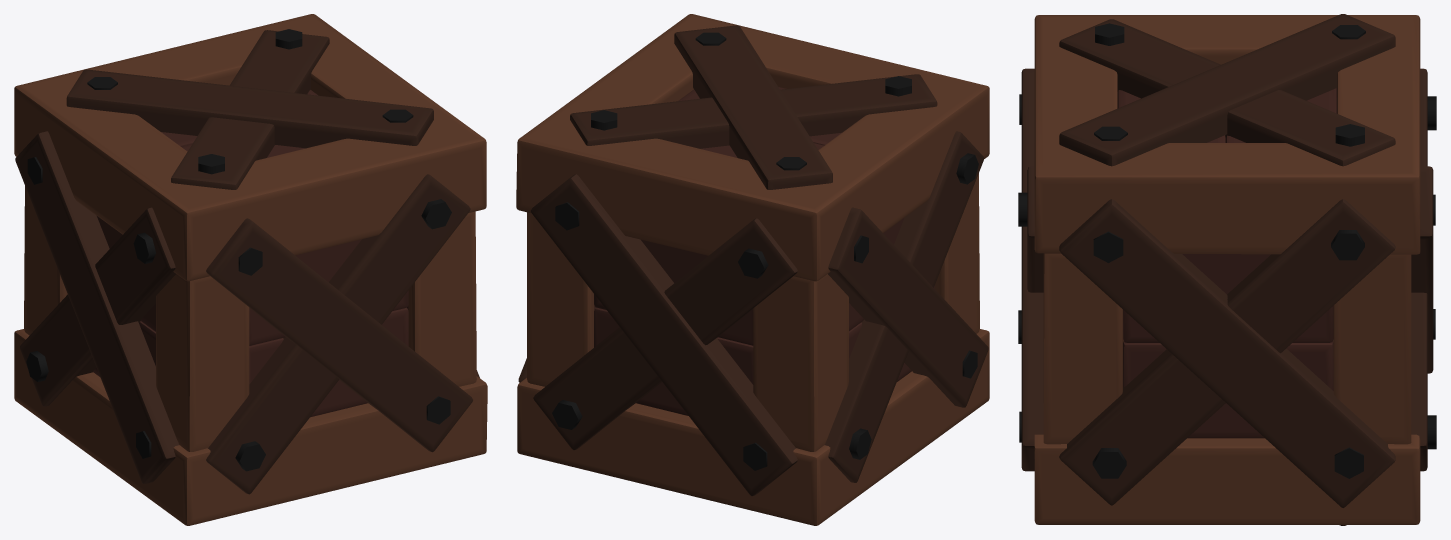
3 views of the same model, side by side, from view 1: azimuth 30°, elevation 25°; view 2: azimuth 150°, elevation 25°; view 3: azimuth 270°, elevation 25° (orthographic). The views are drawn at different scales.
Parts seen in each view (by area): view 1: Level0, Plane008, Plane005, Plane011, Plane012, Plane007, Plane002; view 2: Level0, Plane010, Plane003, Plane011, Plane007, Plane012, Plane002; view 3: Level0, Plane009, Plane006, Plane012, Plane002, Plane008, Plane003, Plane010, Plane005.
Part boxes in pixels (x1,y1,x2,y2): Level0: [14, 14, 487, 525]; Plane008: [206, 218, 472, 452]; Plane005: [206, 174, 470, 494]; Plane011: [15, 131, 179, 483]; Plane012: [66, 69, 433, 148]; Plane007: [20, 207, 175, 406]; Plane002: [171, 29, 329, 189]; Level0: [516, 14, 989, 525]; Plane010: [531, 174, 797, 496]; Plane003: [533, 218, 797, 450]; Plane011: [828, 207, 988, 407]; Plane007: [825, 131, 983, 482]; Plane012: [674, 25, 832, 189]; Plane002: [570, 74, 937, 148]; Level0: [1034, 15, 1420, 524]; Plane009: [1059, 199, 1395, 507]; Plane006: [1059, 199, 1395, 505]; Plane012: [1059, 14, 1395, 166]; Plane002: [1059, 19, 1395, 166]; Plane008: [1019, 68, 1043, 471]; Plane003: [1411, 68, 1436, 471]; Plane010: [1411, 166, 1435, 373]; Plane005: [1018, 166, 1043, 343].
Size of the model in its own units: 109 by 109 by 109.
